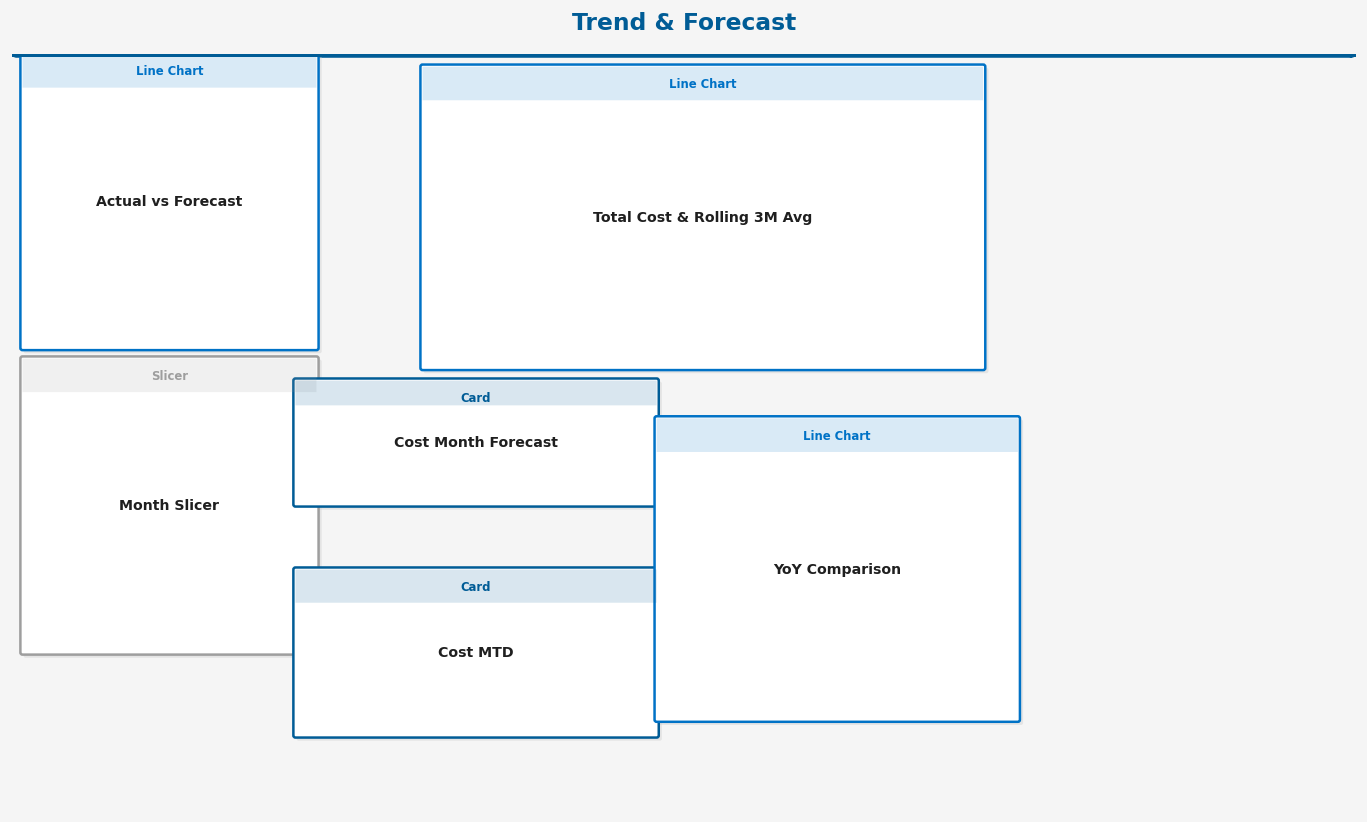

The dashboard page shown, as its layout file describes it:
{"tool":"powerbi","page":{"name":"Trend & Forecast","canvas":[1280,720],"ordinal":5},"visuals":[{"type":"lineChart","fields":{"Category":["DateTable.Date"],"Y":["CostExports.Total Cost","CostExports.Cost Month Forecast"]},"box":[10,0,280,280],"z":0},{"type":"slicer","fields":{"Values":["DateTable.MonthYear"]},"box":[10,290,280,280],"z":1},{"type":"lineChart","fields":{"Category":["DateTable.MonthYear"],"Y":["CostExports.Total Cost","CostExports.Rolling 3M Avg"]},"box":[391.4,12.9,534.3,287.1],"z":2},{"type":"cardVisual","fields":{"Data":["CostExports.Cost Month Forecast"]},"box":[270,311.4,344.3,118.6],"z":3},{"type":"cardVisual","fields":{"Data":["CostExports.Cost MTD"]},"box":[270,491.4,344.3,158.6],"z":4},{"type":"lineChart","fields":{"Category":["DateTable.MonthYear"],"Y":["CostExports.Total Cost","CostExports.Cost Prior Year"]},"box":[614.3,347.1,344.3,287.1],"z":5}]}

Visuals, with their boxes in screenshot pixels (x1, y1, x2, y2):
lineChart - DateTable.Date x CostExports.Total Cost: {"x1": 18, "y1": 50, "x2": 313, "y2": 345}
slicer - DateTable.MonthYear: {"x1": 18, "y1": 355, "x2": 313, "y2": 650}
lineChart - DateTable.MonthYear x CostExports.Total Cost: {"x1": 419, "y1": 63, "x2": 982, "y2": 366}
cardVisual - CostExports.Cost Month Forecast: {"x1": 291, "y1": 378, "x2": 654, "y2": 503}
cardVisual - CostExports.Cost MTD: {"x1": 291, "y1": 567, "x2": 654, "y2": 734}
lineChart - DateTable.MonthYear x CostExports.Total Cost: {"x1": 654, "y1": 415, "x2": 1017, "y2": 718}
